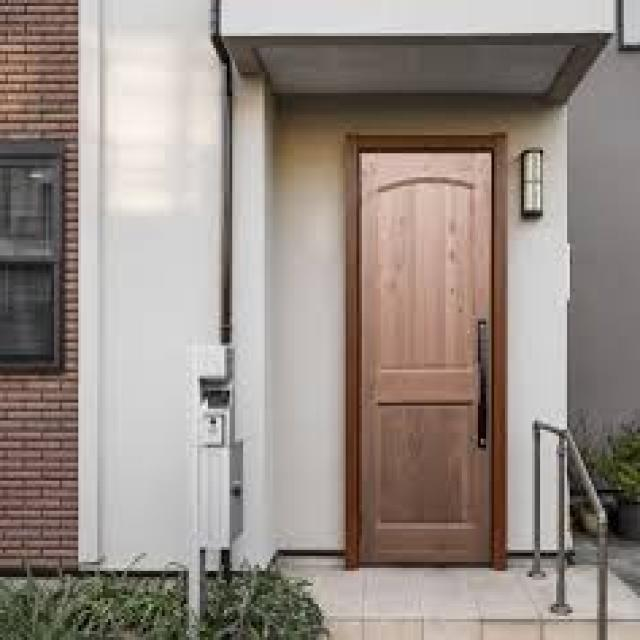door: (355, 143, 496, 566)
